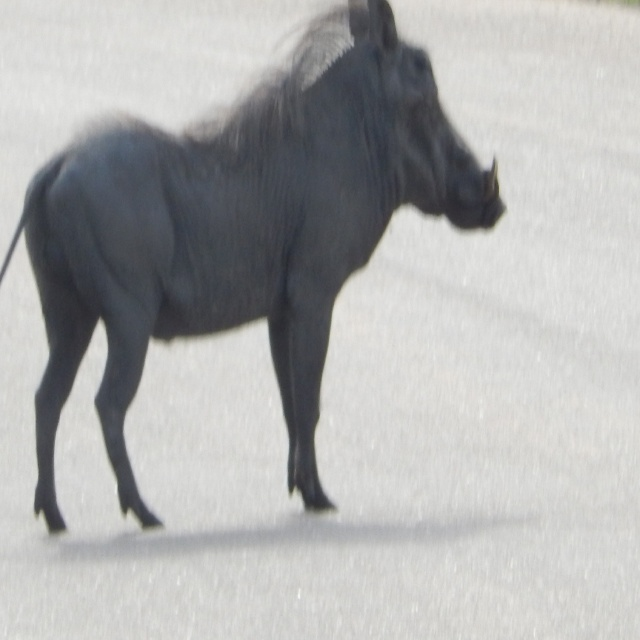Pig: (0, 0, 508, 534)
